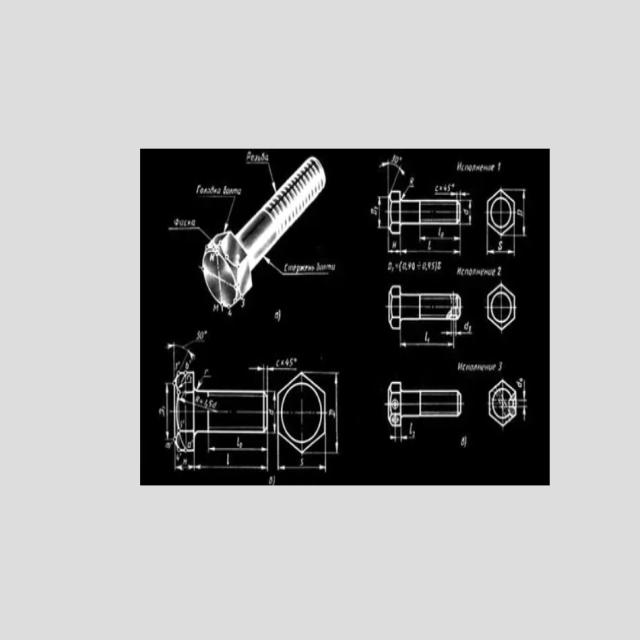marking_line: (193, 453, 270, 472), (265, 256, 337, 276), (207, 434, 271, 456), (399, 236, 462, 257), (201, 193, 237, 229), (327, 370, 339, 457), (399, 331, 456, 349), (246, 161, 276, 193), (277, 455, 328, 473), (165, 342, 196, 370), (419, 226, 463, 244), (378, 161, 404, 189), (249, 365, 276, 391), (516, 189, 528, 239), (486, 237, 515, 257), (440, 320, 473, 336), (165, 382, 172, 442), (174, 452, 195, 472), (268, 389, 276, 435), (389, 428, 414, 442), (376, 195, 386, 229), (386, 236, 403, 254), (462, 198, 472, 226), (517, 379, 528, 402), (436, 192, 472, 199), (197, 373, 212, 389), (402, 183, 415, 199), (518, 405, 529, 420)
numeric: (274, 306, 281, 322), (328, 406, 336, 420), (461, 435, 467, 449), (370, 208, 378, 217), (443, 181, 449, 193), (515, 379, 522, 389), (426, 239, 433, 249), (498, 239, 504, 250), (462, 207, 469, 216), (159, 408, 165, 418), (235, 436, 240, 448), (409, 423, 414, 435), (464, 321, 470, 331), (436, 261, 442, 271), (402, 261, 408, 271), (164, 442, 172, 449), (430, 262, 436, 271), (196, 330, 201, 340), (498, 362, 503, 372), (391, 154, 396, 164), (447, 182, 452, 192), (434, 183, 439, 193), (517, 209, 524, 216), (268, 408, 274, 416), (299, 457, 304, 466), (422, 261, 427, 270), (396, 263, 401, 272), (410, 176, 415, 185), (392, 240, 397, 249), (200, 330, 204, 341), (290, 357, 294, 367), (208, 399, 213, 407), (407, 262, 412, 270), (437, 225, 441, 235), (498, 161, 502, 171), (226, 453, 229, 466), (424, 330, 427, 343), (185, 360, 189, 369), (188, 440, 192, 449), (497, 267, 501, 276), (412, 263, 416, 272), (468, 324, 473, 331), (428, 261, 432, 269), (183, 458, 187, 465), (239, 441, 243, 448), (205, 398, 208, 407), (162, 405, 167, 410), (426, 337, 431, 342), (276, 360, 279, 368), (196, 395, 199, 402), (281, 360, 284, 366), (286, 358, 288, 366), (205, 369, 208, 374)
special_symbol: (203, 330, 207, 336), (294, 357, 297, 364)
